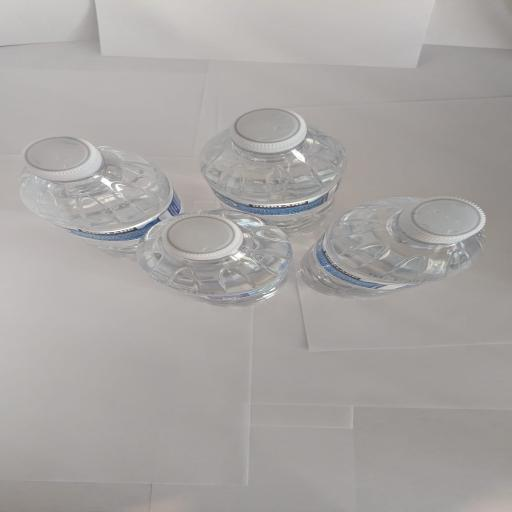waterbottle: (21, 137, 181, 258), (300, 198, 485, 297), (201, 109, 345, 234), (138, 210, 292, 304)
